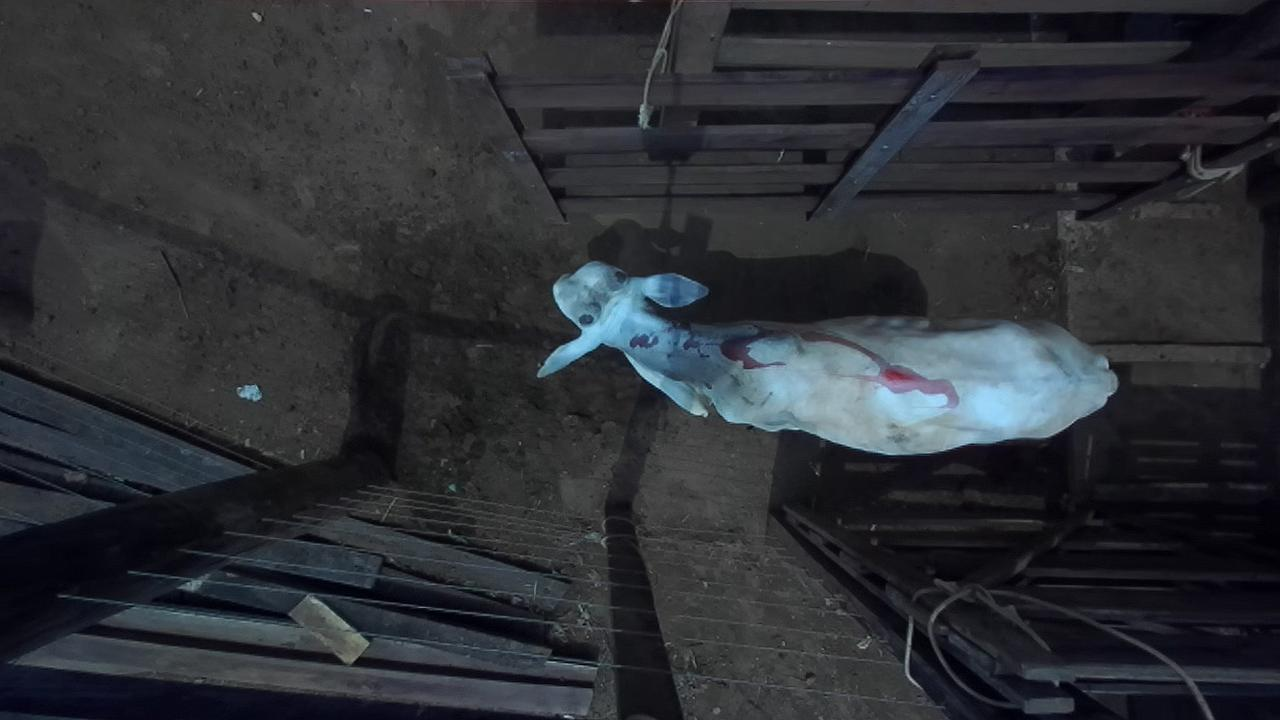cattle: (535, 257, 1119, 457)
